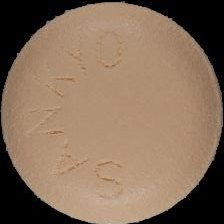54868-5170: (0, 0, 224, 224)
